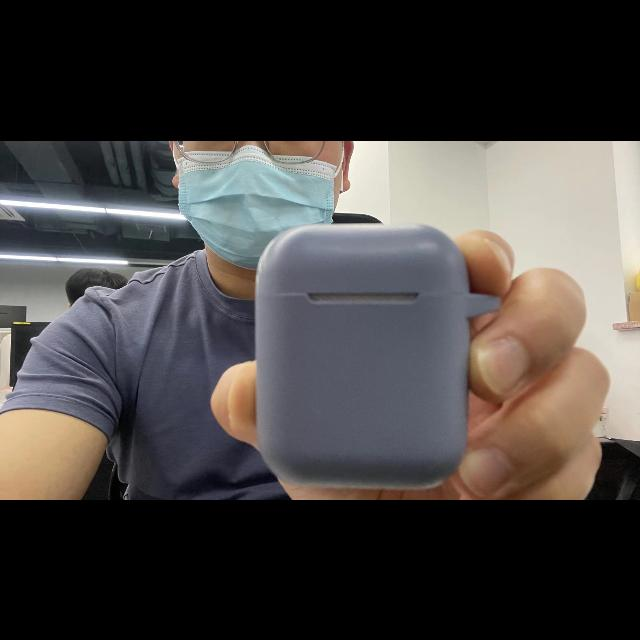airpods: (255, 224, 499, 488)
